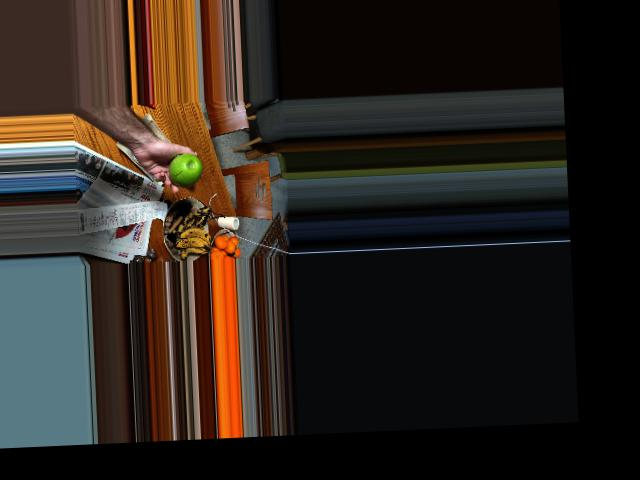apple: (167, 152, 202, 187)
